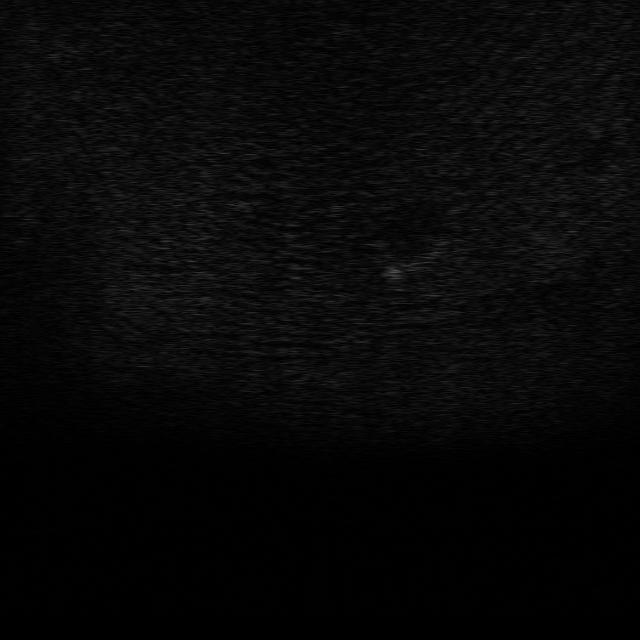plane: (379, 246, 441, 285)
